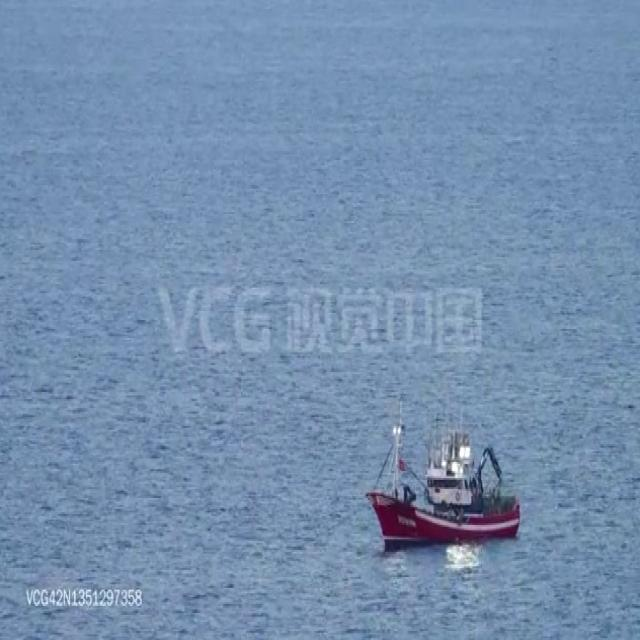fishing boat: (362, 390, 520, 548)
